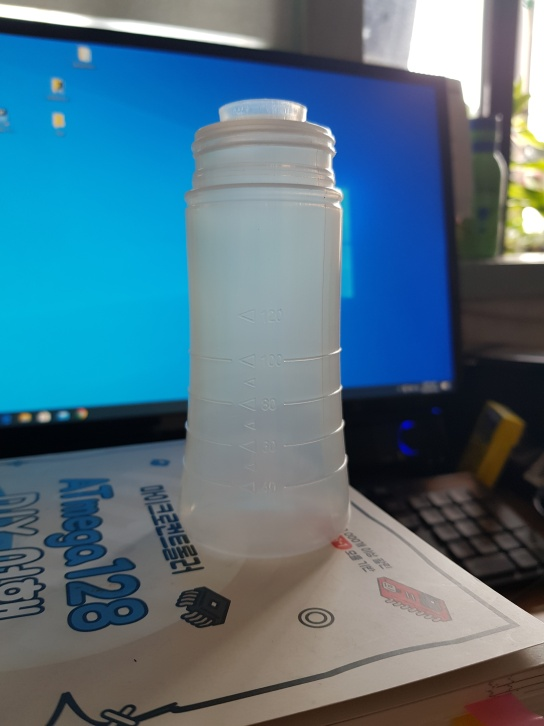Plastic: (174, 99, 354, 563)
